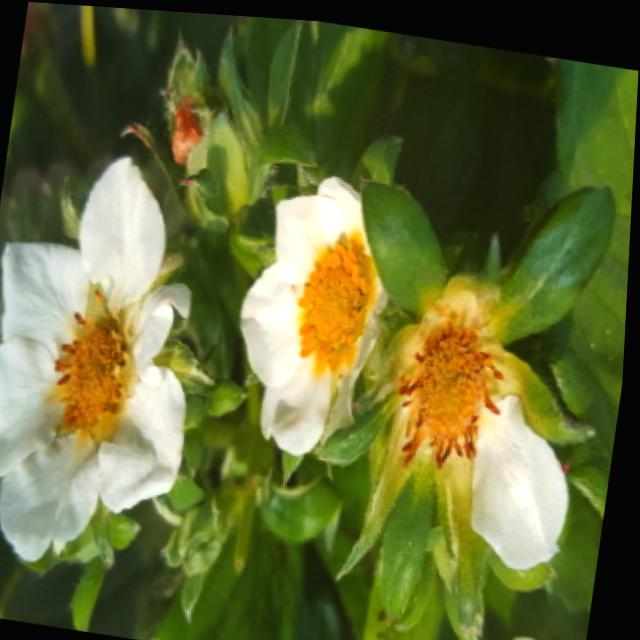Blossom Blight: (389, 302, 513, 466), (49, 277, 142, 451)
